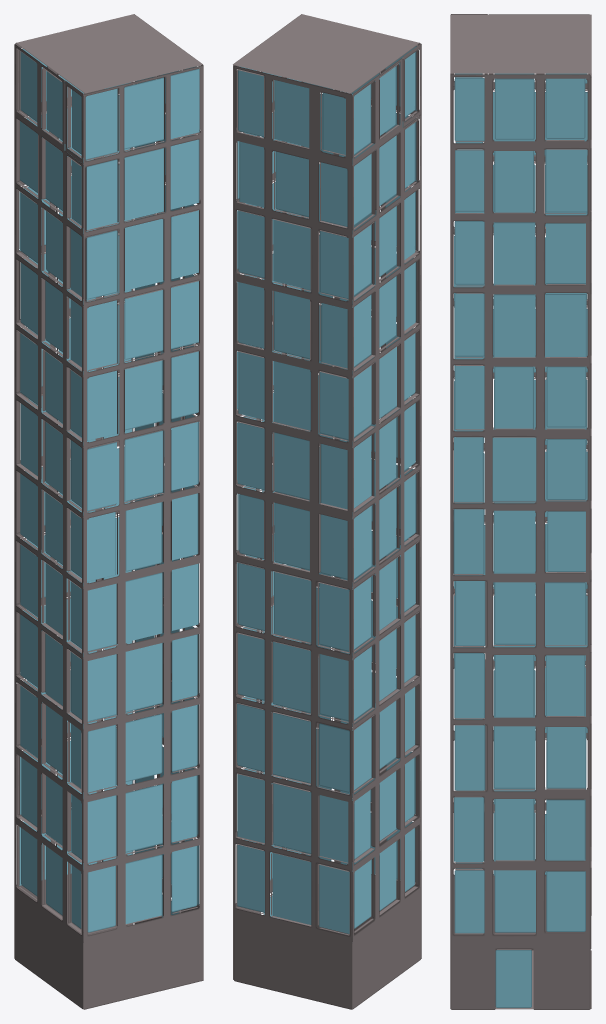
Rendered from first skyscrapper made by me no textures.fbx.
3 renders of one model, left to right at view 1: azimuth 30°, elevation 25°; view 2: azimuth 150°, elevation 25°; view 3: azimuth 270°, elevation 25°, orthographic. The views are drawn at different scales.
Visible parts, largest first — view 1: skyscrapper; view 2: skyscrapper; view 3: skyscrapper.
Part boxes in pixels (box(x1,y1,x2,y2)): skyscrapper: box(14, 14, 203, 1009); skyscrapper: box(233, 14, 421, 1009); skyscrapper: box(450, 14, 591, 1009).
Bounding box in the file's own units: 476 × 3478 × 476.
2 materials, 2 textured.
